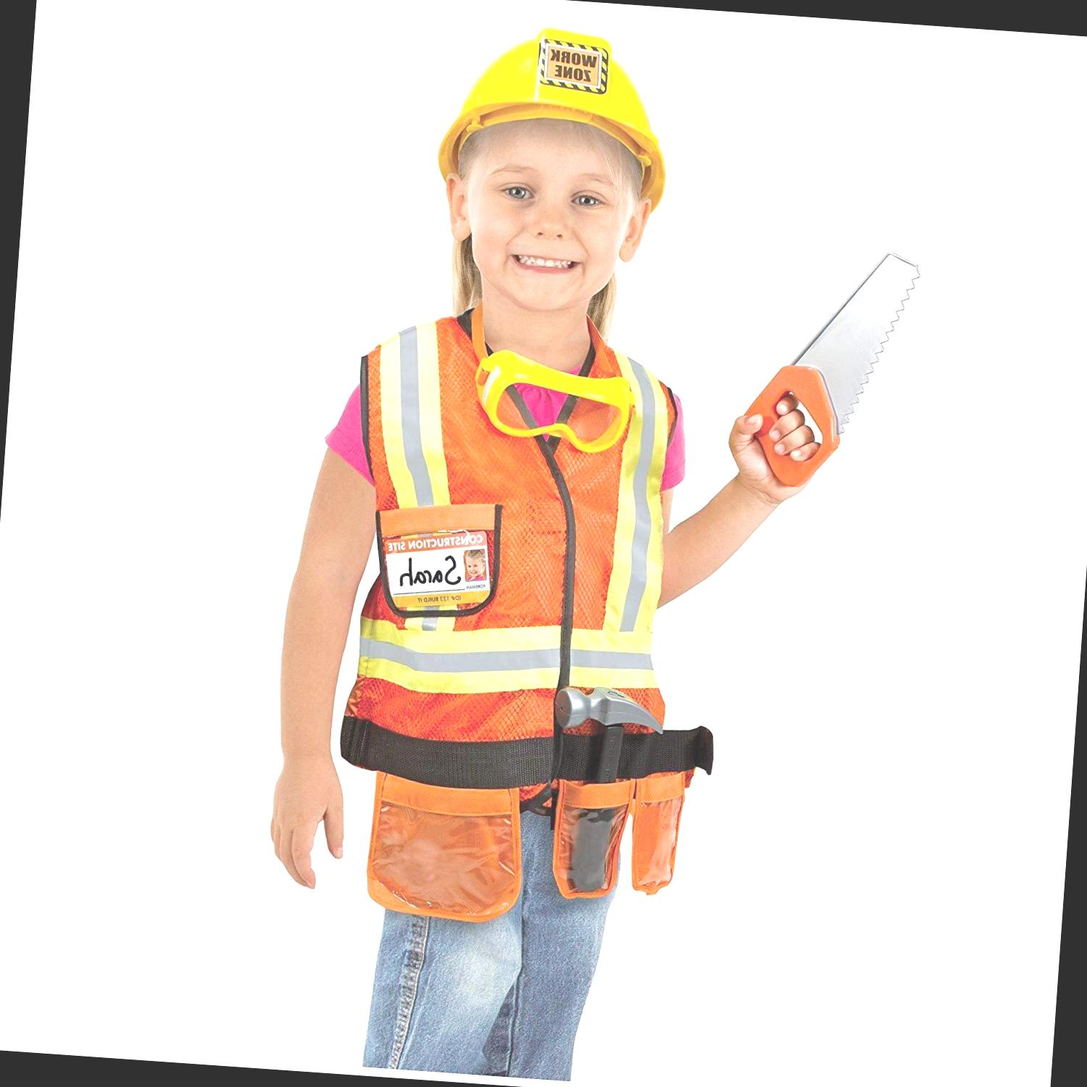helmet: (425, 26, 688, 236)
person: (269, 5, 745, 1087)
